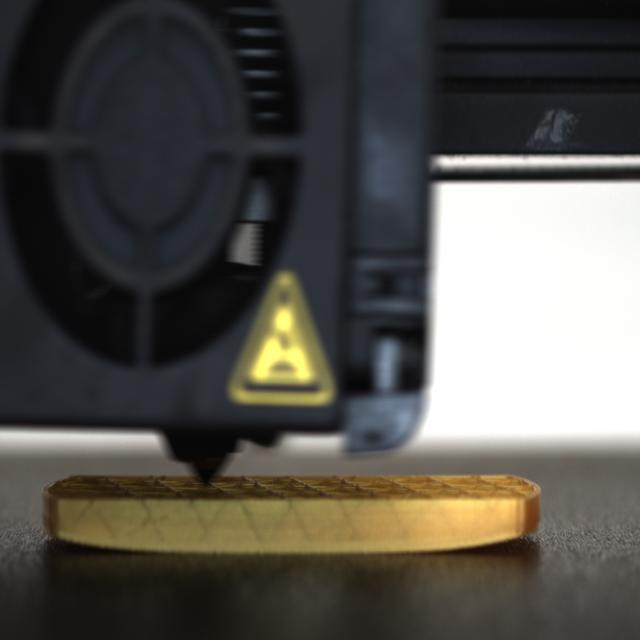Warping: (460, 521, 534, 554)
